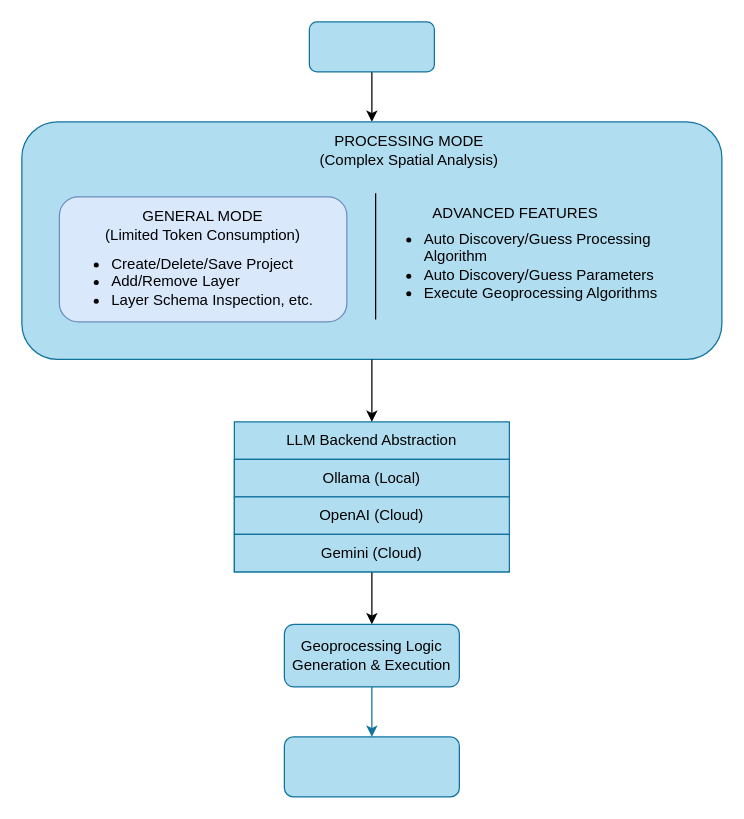
This 744x819 diagram has some shape labels left out. The shapes that lost their labels are listed below. From the top down, each one's centre as x and y in pixels, then its label:
At [371,46]: "User Prompt".
At [371,766]: "Chat Response & Output Visualization".
